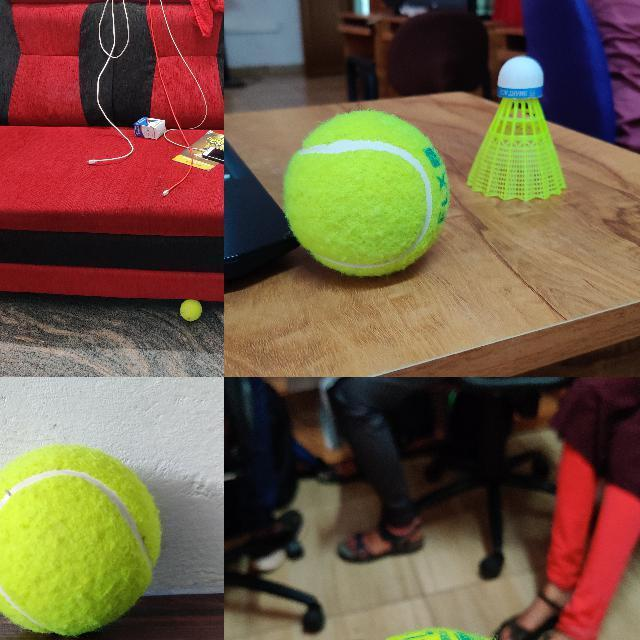tennis-ball: (0, 444, 162, 637), (284, 111, 449, 276), (180, 299, 202, 321)
